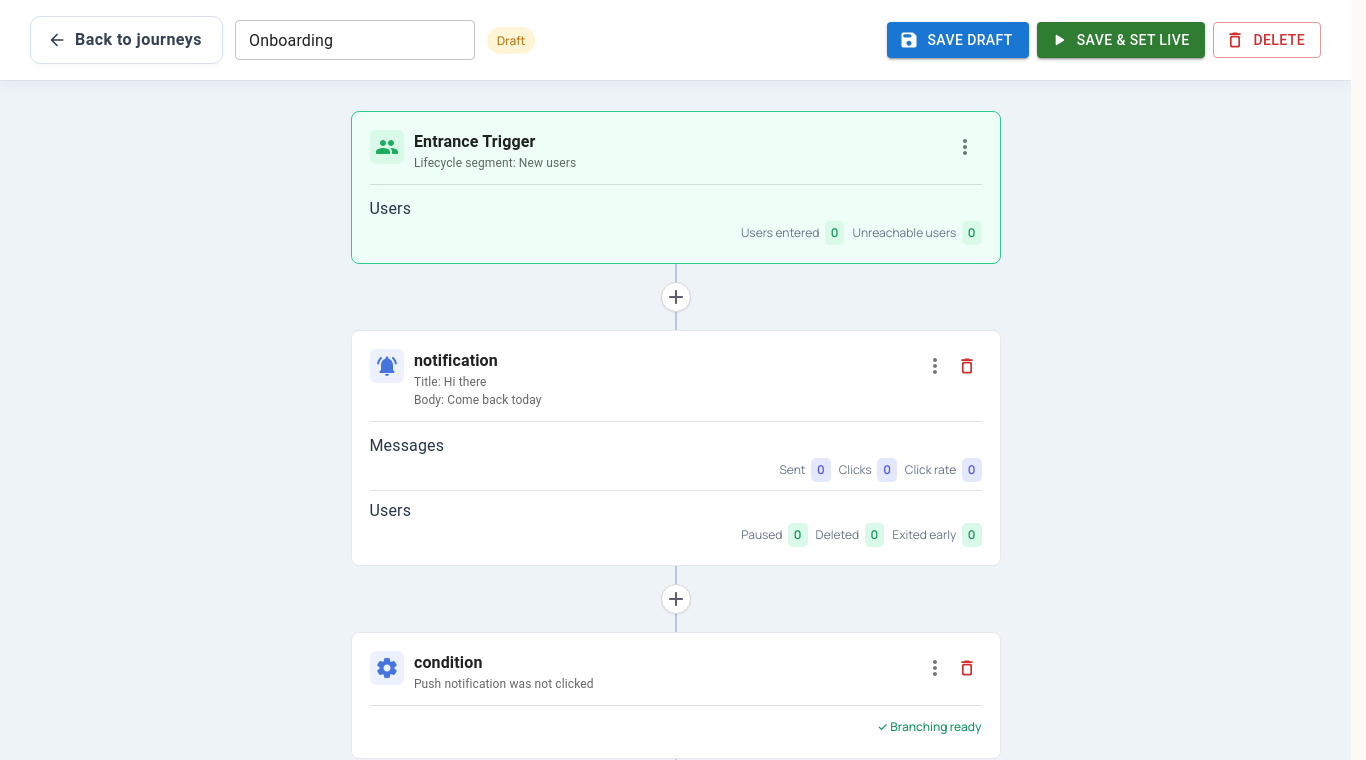
Test: journey builder › shows the backend's reason when going live is refused
expect the text "Lifecycle segment: New users" is shown: met, box [414,156,576,170]
Click the button "Save & set live": coordinates (1121, 40) [1037,22,1206,58]
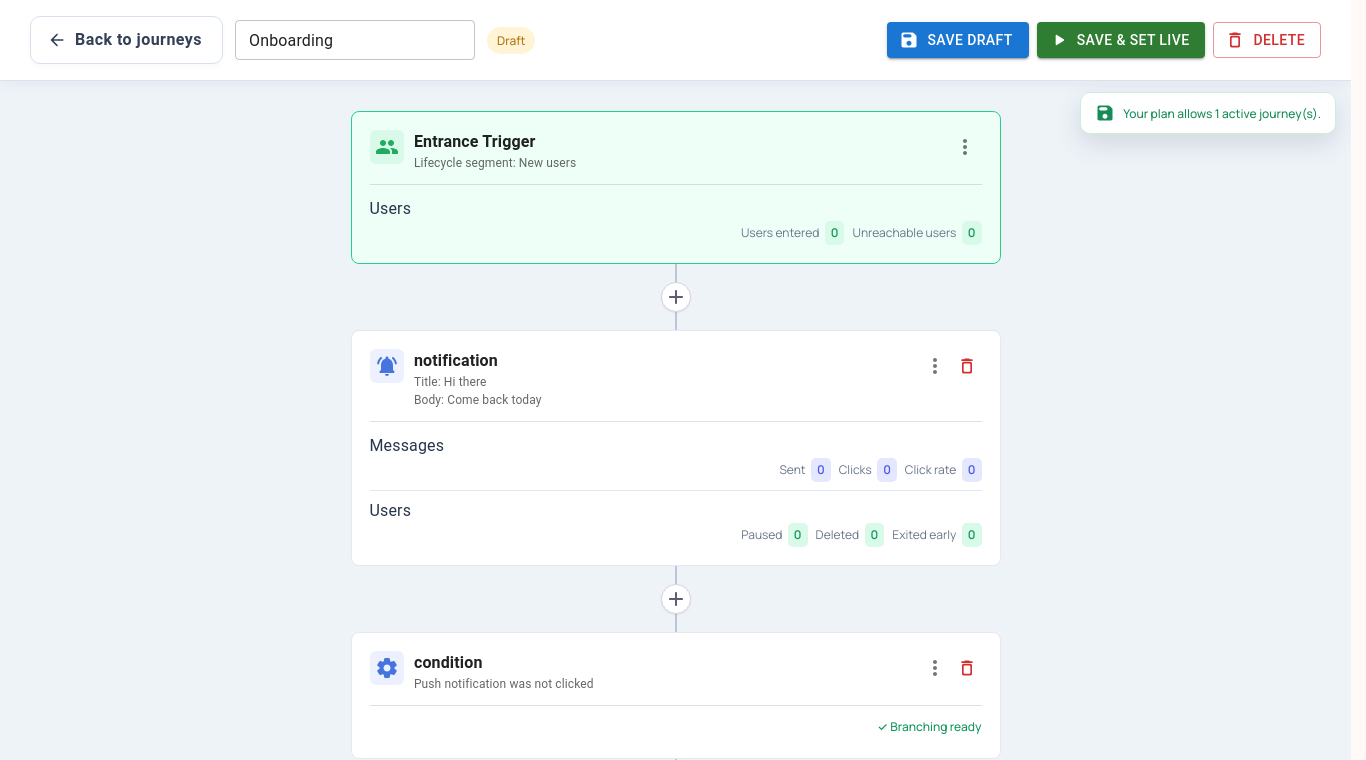
expect the text "Draft" is shown: met, box [487,26,536,54]
expect the text "Your plan allows 1 active journey(s)." is shown: met, box [1080,92,1336,134]
